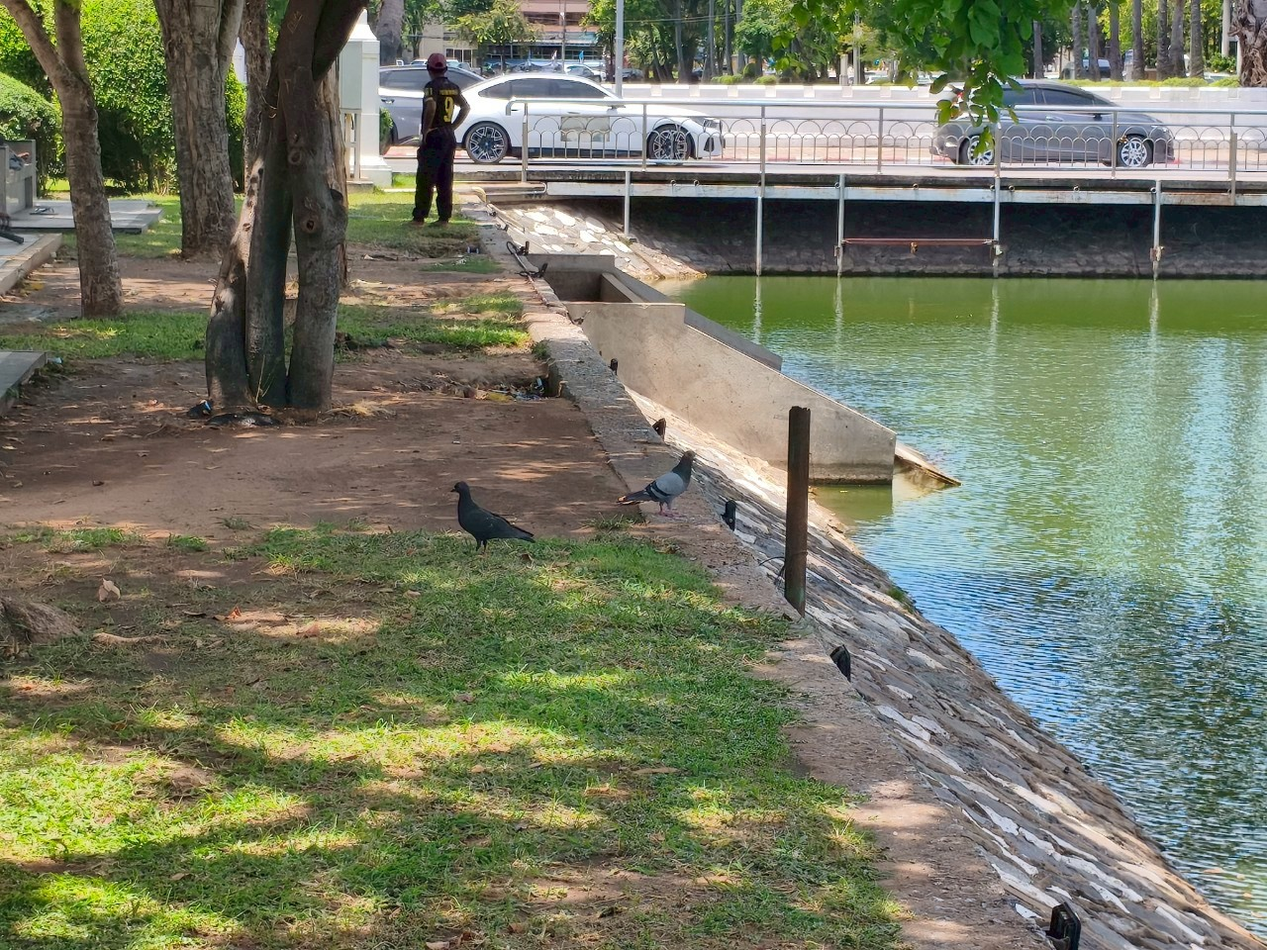Pigeon: (455, 482, 534, 549), (618, 452, 693, 513)
